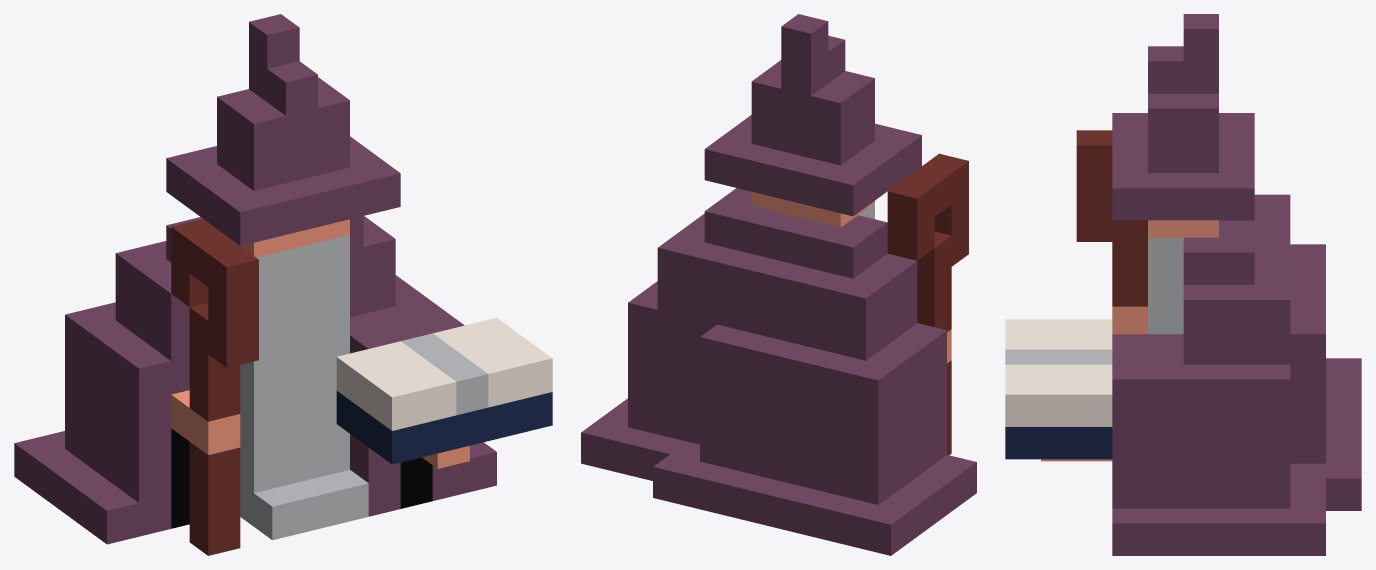
Rendered from mage_walk_0.obj.
3 renders of one model, left to right at view 1: azimuth 30°, elevation 25°; view 2: azimuth 150°, elevation 25°; view 3: azimuth 270°, elevation 25°, orthographic. The views are drawn at different scales.
Bounding box in the file's own units: 1.1 × 1.4 × 1.
1 material, 1 textured.
